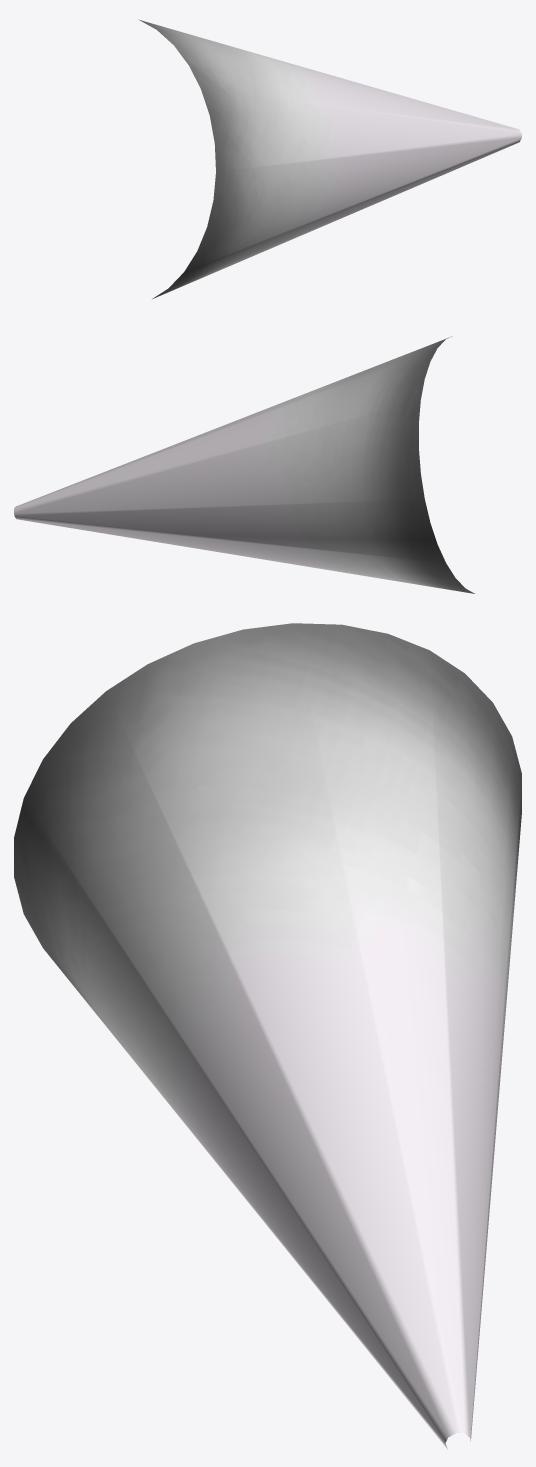
Rendered from party_hat_worldmodel.glb.
3 views of the same model, one above another, from view 1: azimuth 30°, elevation 25°; view 2: azimuth 150°, elevation 25°; view 3: azimuth 270°, elevation 25° (orthographic). The views are drawn at different scales.
Visible parts, largest first — view 1: party_hat_LOD0; view 2: party_hat_LOD0; view 3: party_hat_LOD0.
Part boxes in pixels (box(x1,y1,x2,y2)): party_hat_LOD0: box(138, 19, 521, 298); party_hat_LOD0: box(14, 336, 474, 593); party_hat_LOD0: box(14, 623, 521, 1449).
Size of the model in its own units: 0.1959 by 0.0981 by 0.0976.
Materials: 1 (1 with a texture image).
